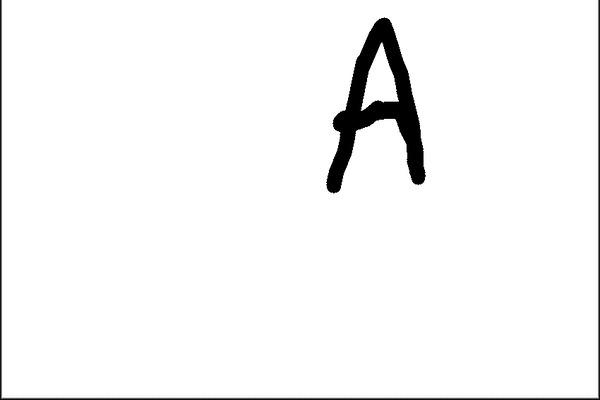A: (314, 9, 432, 200)
